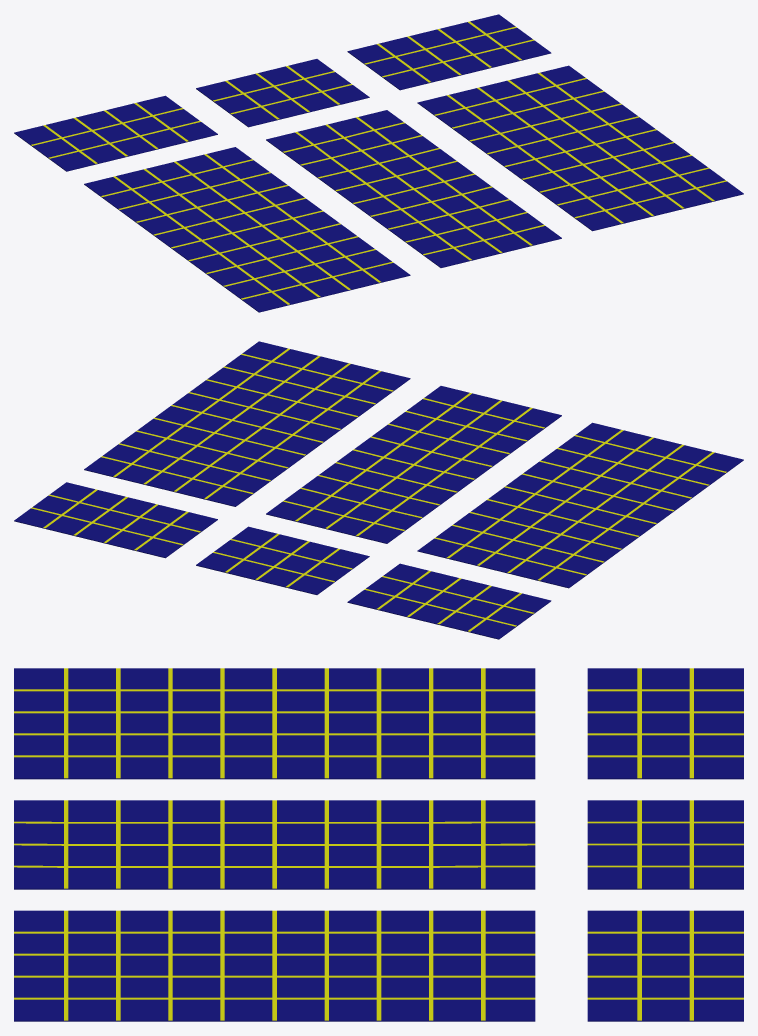
File: asphalt.FBX
3 views of the same model, one above another, from view 1: azimuth 30°, elevation 25°; view 2: azimuth 150°, elevation 25°; view 3: azimuth 270°, elevation 25° (orthographic). The views are drawn at different scales.
Visible parts, largest first — view 1: Group048; view 2: Group048; view 3: Group048.
Part boxes in pixels (left/top/right/bottom): Group048: left=14, top=14, right=743, bottom=312; Group048: left=14, top=341, right=743, bottom=639; Group048: left=14, top=668, right=743, bottom=1021.
Bounding box in the file's own units: 5261 × 7.01 × 4603.
